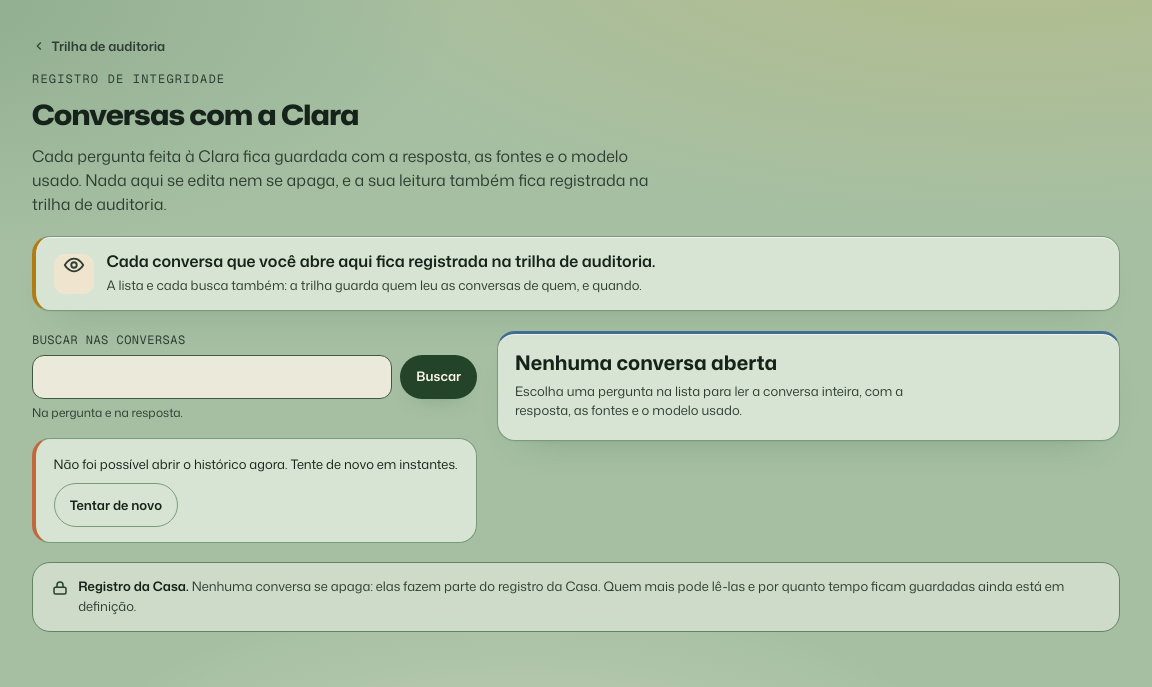
Test: Conversas com a Clara (/auditoria/clara) › falha vira frase, sem código, com 'Tentar de novo'
Expected: the message shows "Não foi possível abrir o histórico agora", [54, 455, 458, 473]
Click the button "Tentar de novo". click: (116, 505)
box: [54, 483, 178, 527]
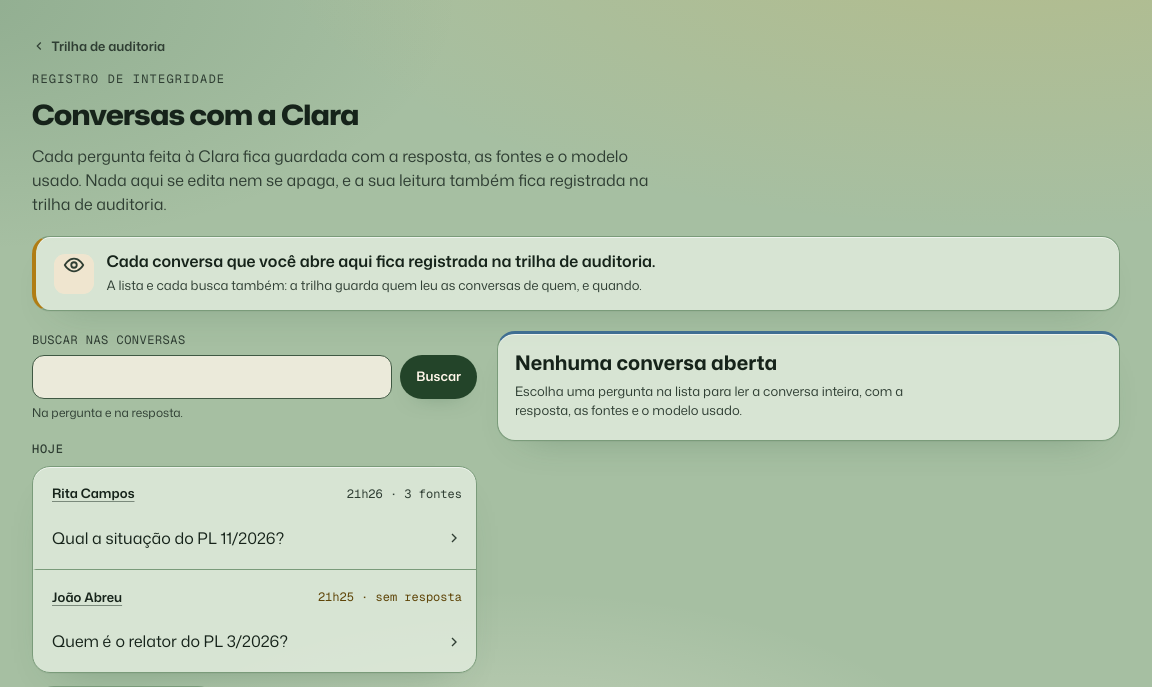
Result: the list named "Hoje" is shown at [32, 466, 477, 673]
